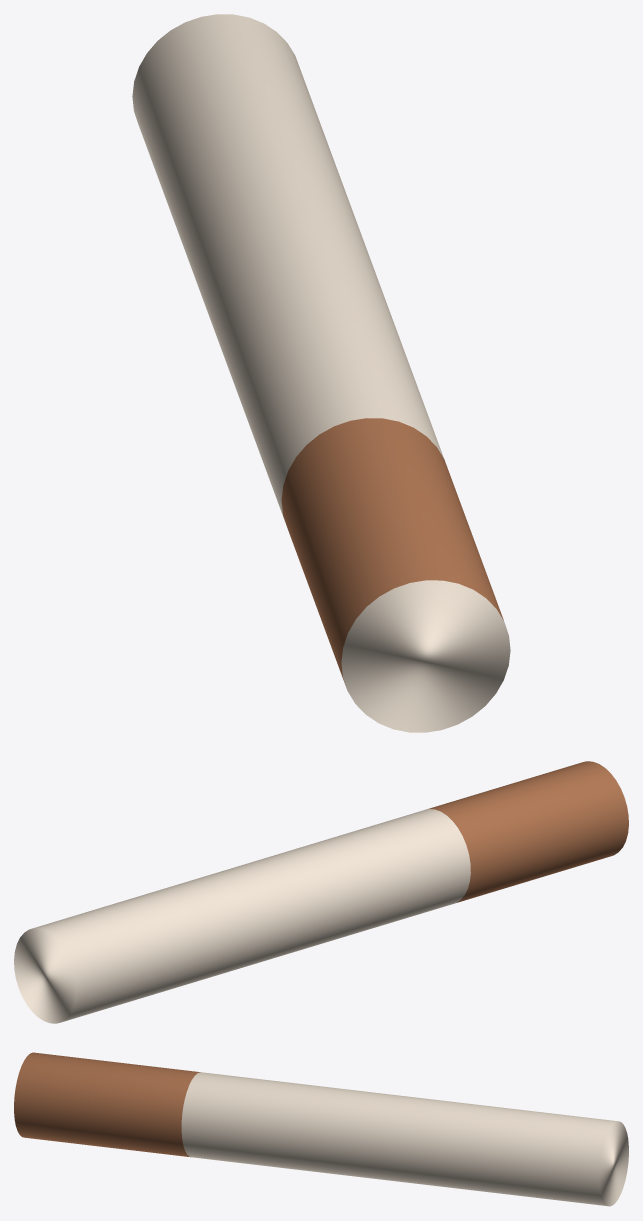
The model's file is Cig.glb.
The picture shows the model from 3 angles, top to bottom: view 1: azimuth 30°, elevation 25°; view 2: azimuth 150°, elevation 25°; view 3: azimuth 270°, elevation 25°; orthographic projection. The views are drawn at different scales.
Visible parts, largest first — view 1: CigAttach; view 2: CigAttach; view 3: CigAttach.
Part boxes in pixels (<box>): CigAttach: <box>132,14,510,732</box>; CigAttach: <box>14,761,628,1023</box>; CigAttach: <box>14,1052,628,1206</box>.
Size of the model in its own units: 0.0366 by 0.0137 by 0.0757.
Materials: 1 (1 with a texture image).
